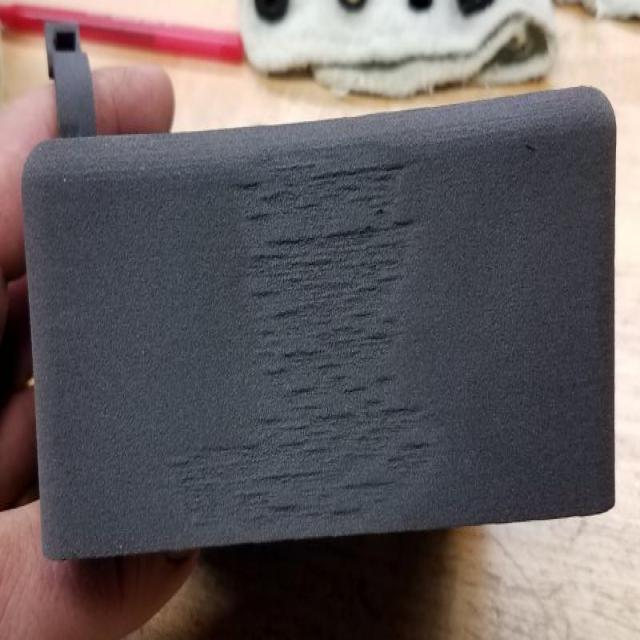spaghetti: (154, 140, 443, 543)
